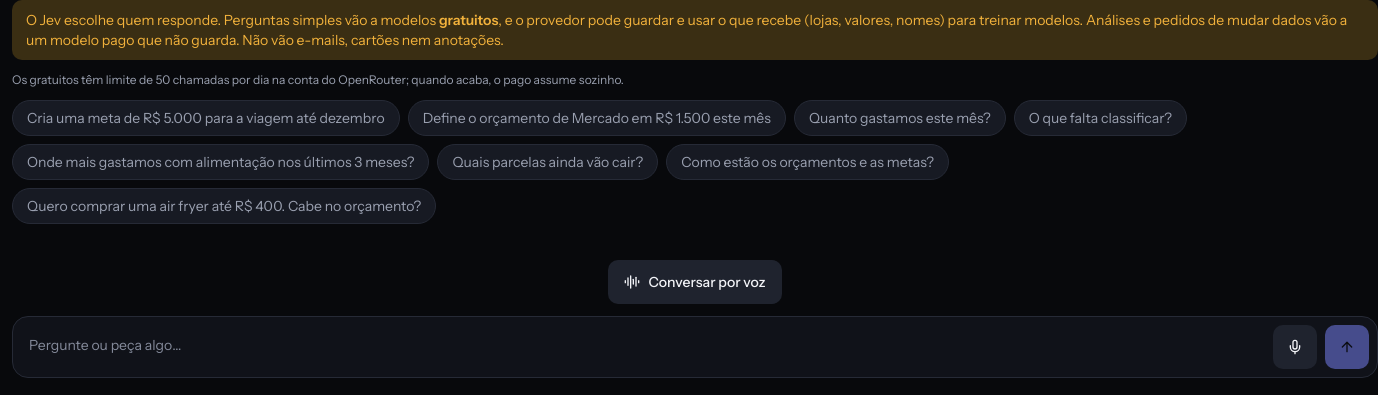
Scenario: ChatPanel › erro aparece na tela, mas não volta para o modelo
Type "oi" into the text box named "Pergunta" at {"x": 643, "y": 347}, box [21, 325, 1265, 369]
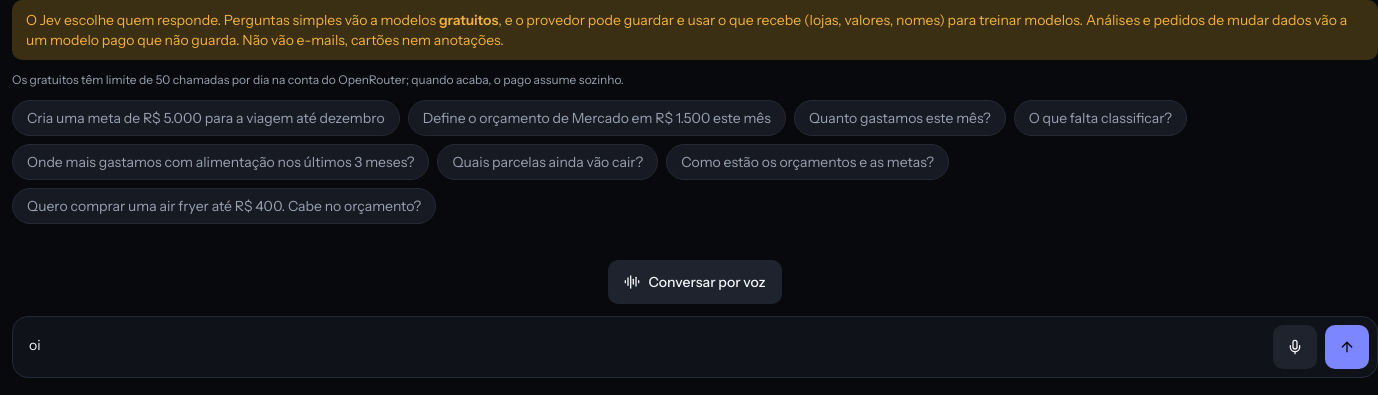
Press Enter in the text box named "Pergunta", box [21, 325, 1265, 369]
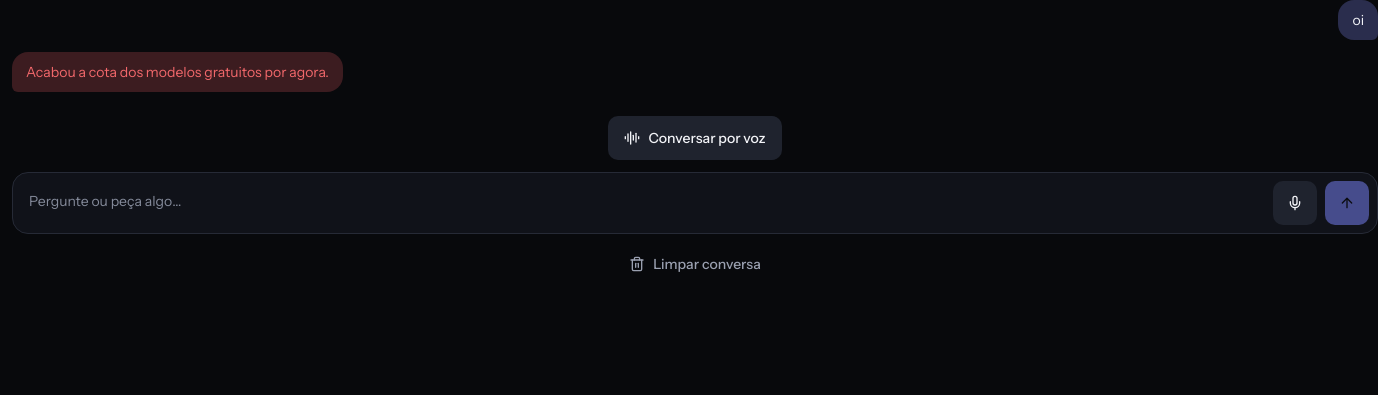
Expected: the text "Acabou a cota dos modelos gratuitos por agora." is shown, [26, 63, 329, 81]
Type "e agora?" into the text box named "Pergunta" at {"x": 643, "y": 203}, box [21, 181, 1265, 225]
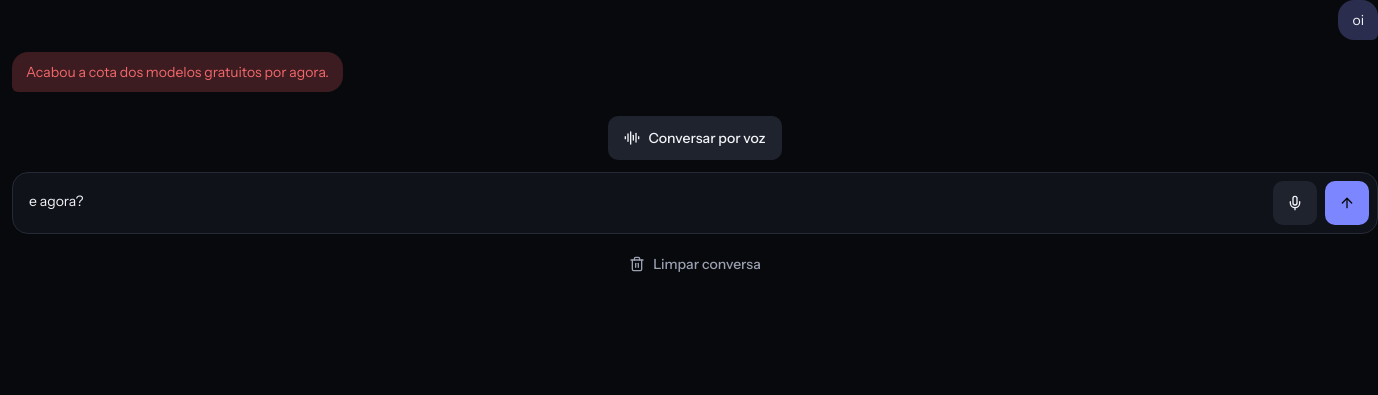
Press Enter in the text box named "Pergunta", box [21, 181, 1265, 225]
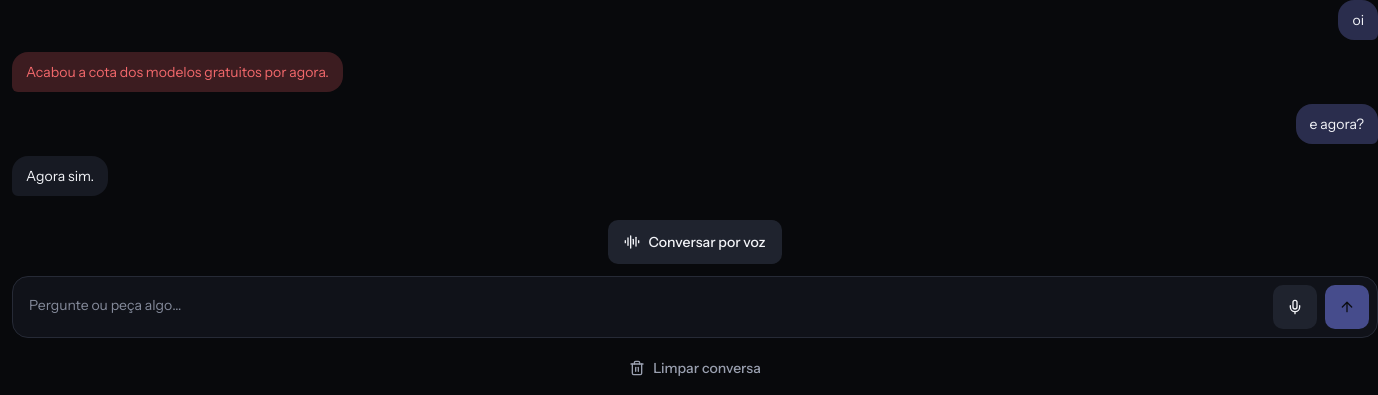
Expected: the text "Agora sim." is shown, [26, 167, 94, 185]
